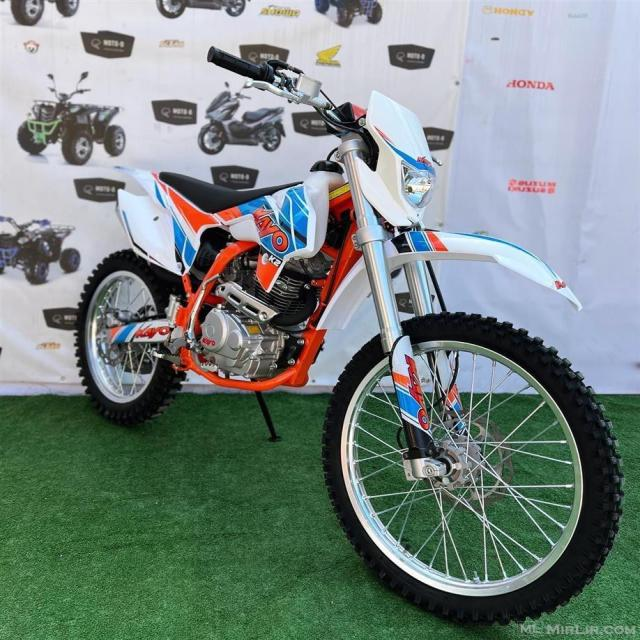Motorcycle: (74, 46, 623, 624)
